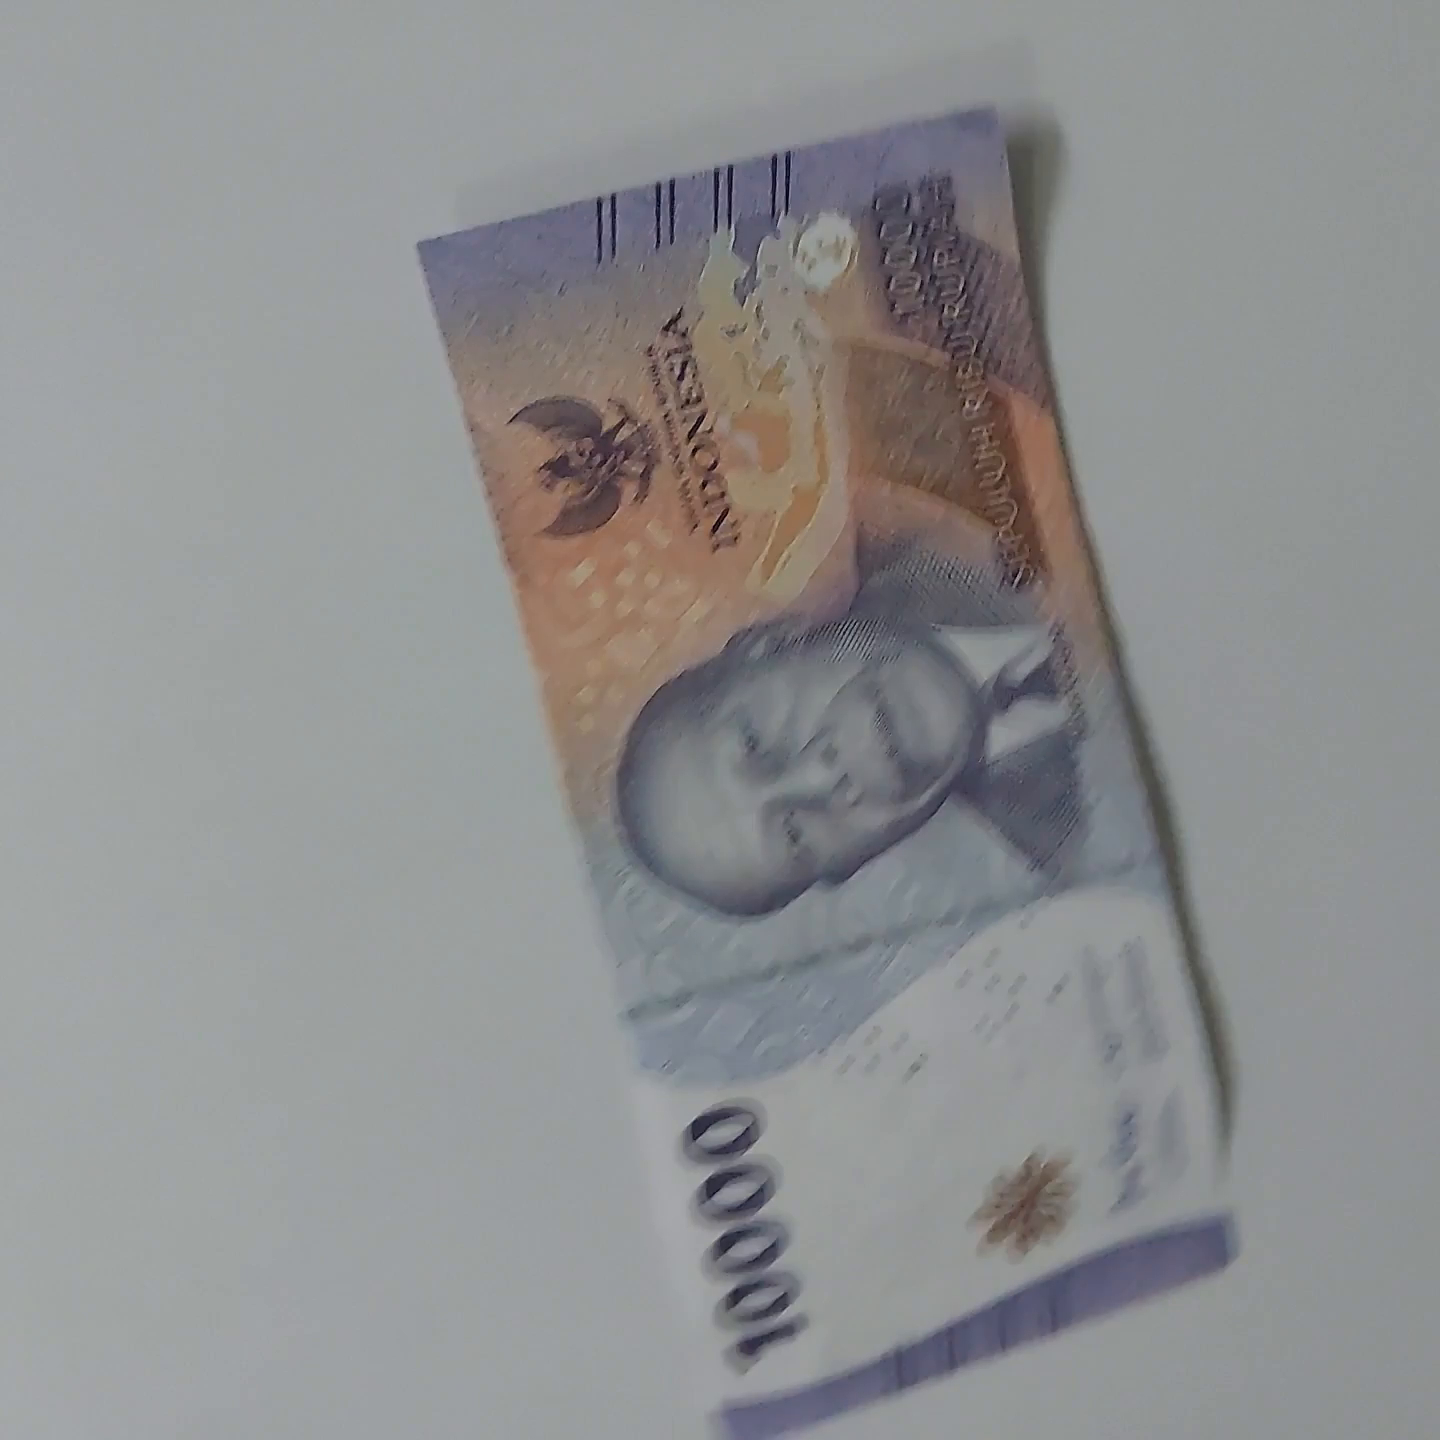10k: (375, 121, 1245, 1440)
